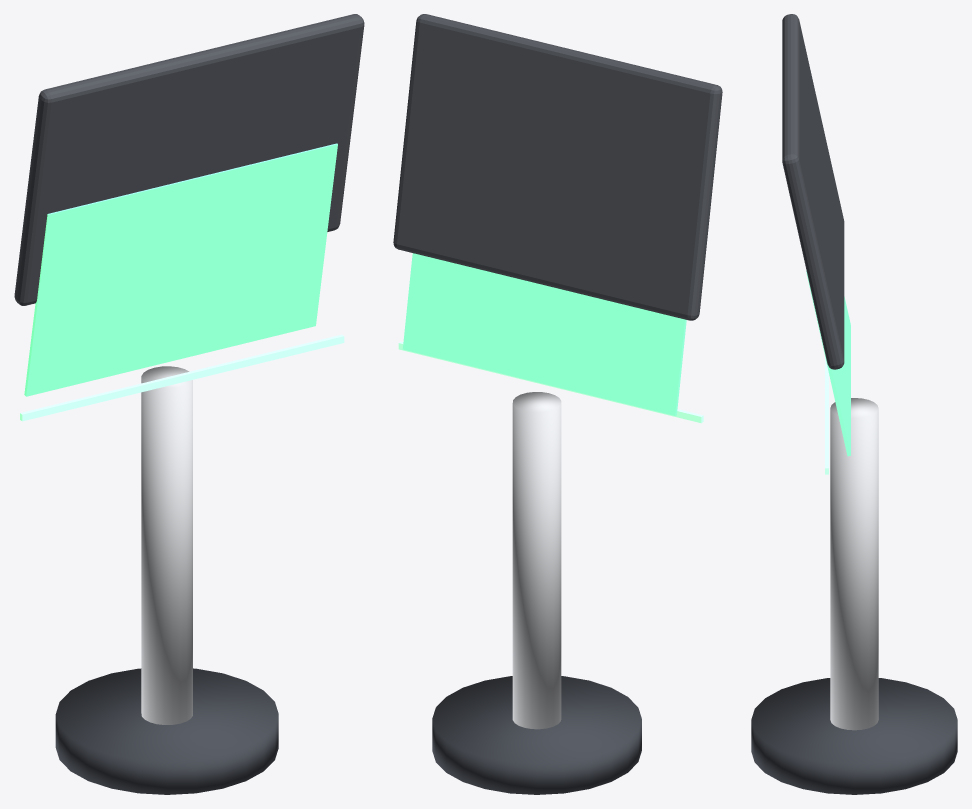
File: terminal_kiosk_map_kiosk.glb
3 views of the same model, side by side, from view 1: azimuth 30°, elevation 25°; view 2: azimuth 150°, elevation 25°; view 3: azimuth 270°, elevation 25° (orthographic). The views are drawn at different scales.
Visible parts, largest first — view 1: GD_terminal_kiosk_map_kiosk__m3, GD_terminal_kiosk_map_kiosk__m2, GD_terminal_kiosk_map_kiosk__m0, GD_terminal_kiosk_map_kiosk__m1, GD_terminal_kiosk_map_kiosk__m4; view 2: GD_terminal_kiosk_map_kiosk__m2, GD_terminal_kiosk_map_kiosk__m3, GD_terminal_kiosk_map_kiosk__m0, GD_terminal_kiosk_map_kiosk__m1, GD_terminal_kiosk_map_kiosk__m4; view 3: GD_terminal_kiosk_map_kiosk__m0, GD_terminal_kiosk_map_kiosk__m1, GD_terminal_kiosk_map_kiosk__m2, GD_terminal_kiosk_map_kiosk__m3, GD_terminal_kiosk_map_kiosk__m4.
Part boxes in pixels (box(x1,y1,x2,y2)): GD_terminal_kiosk_map_kiosk__m3: box(24, 143, 337, 396); GD_terminal_kiosk_map_kiosk__m2: box(14, 14, 364, 305); GD_terminal_kiosk_map_kiosk__m0: box(55, 668, 278, 794); GD_terminal_kiosk_map_kiosk__m1: box(141, 366, 192, 724); GD_terminal_kiosk_map_kiosk__m4: box(20, 334, 344, 421); GD_terminal_kiosk_map_kiosk__m2: box(393, 14, 722, 320); GD_terminal_kiosk_map_kiosk__m3: box(402, 253, 686, 415); GD_terminal_kiosk_map_kiosk__m0: box(432, 676, 641, 794); GD_terminal_kiosk_map_kiosk__m1: box(512, 392, 561, 729); GD_terminal_kiosk_map_kiosk__m4: box(398, 341, 703, 423); GD_terminal_kiosk_map_kiosk__m0: box(751, 678, 957, 794); GD_terminal_kiosk_map_kiosk__m1: box(830, 398, 878, 730); GD_terminal_kiosk_map_kiosk__m2: box(782, 14, 844, 369); GD_terminal_kiosk_map_kiosk__m3: box(806, 270, 850, 456); GD_terminal_kiosk_map_kiosk__m4: box(825, 357, 828, 474).
Size of the model in its own units: 1 by 2.14 by 0.6.
